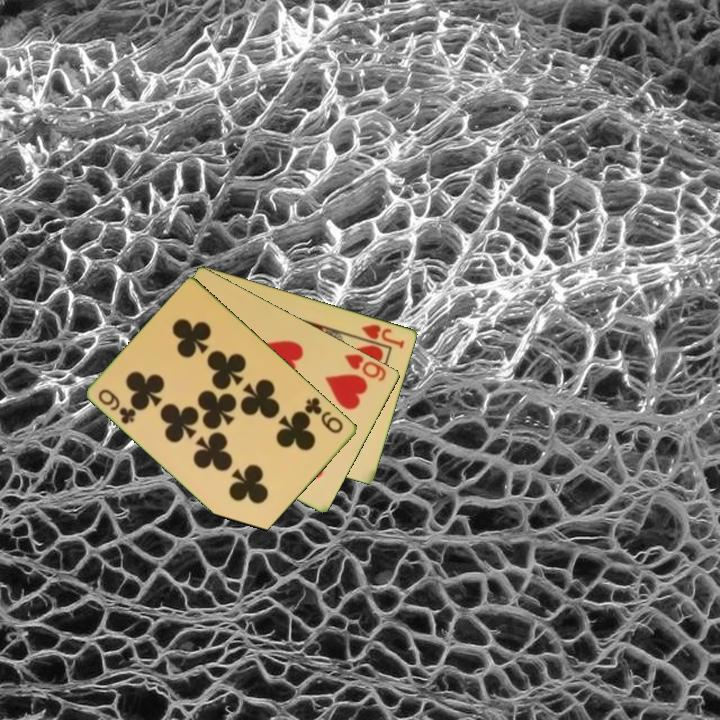6h: (341, 350, 390, 384)
9c: (301, 394, 347, 436), (95, 385, 139, 428)
Jh: (352, 320, 408, 351)
